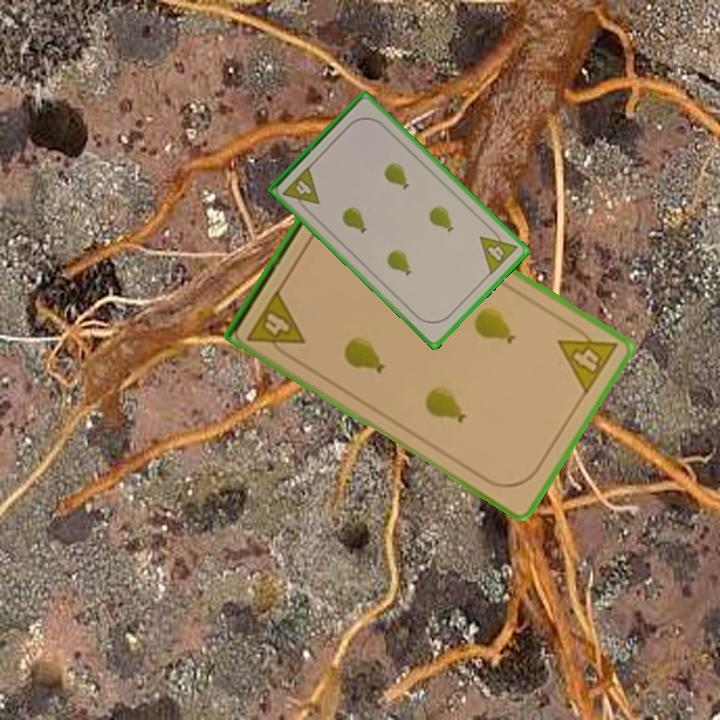4p: (554, 319, 621, 398), (243, 285, 308, 363), (476, 223, 521, 278), (279, 162, 323, 216)
